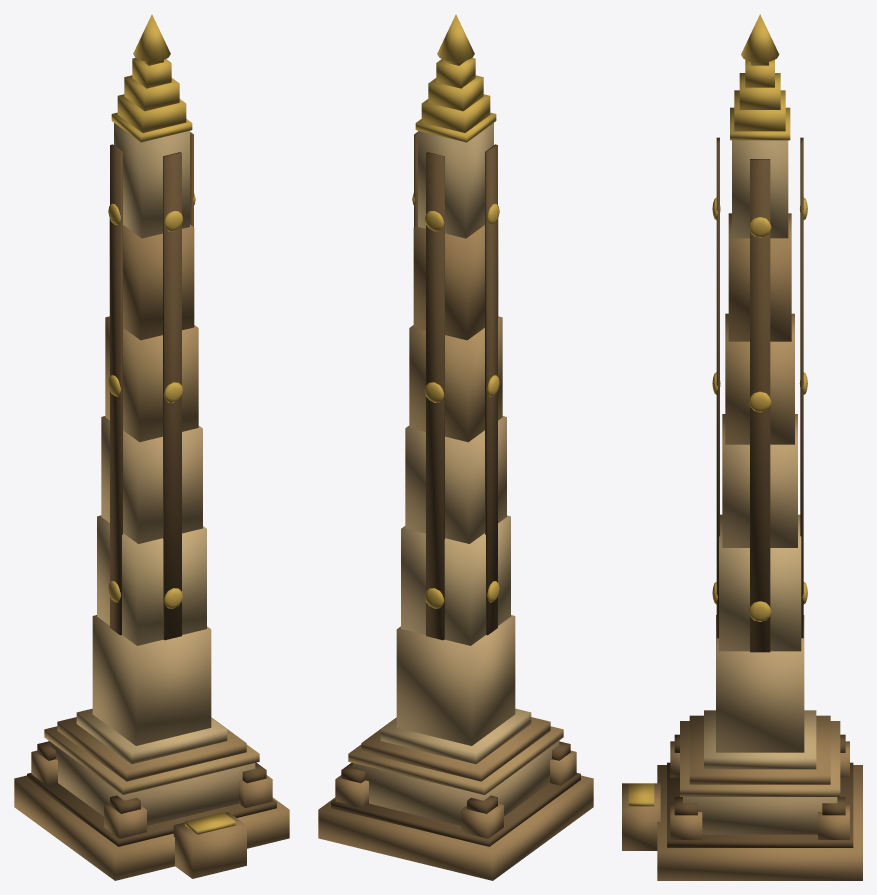
Rendered from obelisk.glb.
3 renders of one model, left to right at view 1: azimuth 30°, elevation 25°; view 2: azimuth 150°, elevation 25°; view 3: azimuth 270°, elevation 25°, orthographic.
Visible parts, largest first — view 1: obelisk; view 2: obelisk; view 3: obelisk.
Boxes of the visible parts, x1,y1,x2,y2 form: obelisk: (14,14,289,880); obelisk: (318,14,593,880); obelisk: (622,14,862,880).
Bounding box in the file's own units: 3.2 × 14.15 × 3.75.
